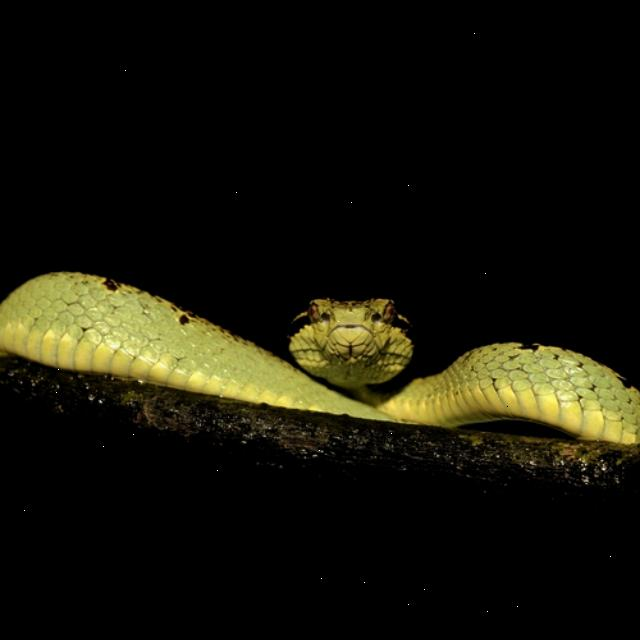snake: (0, 246, 640, 454)
